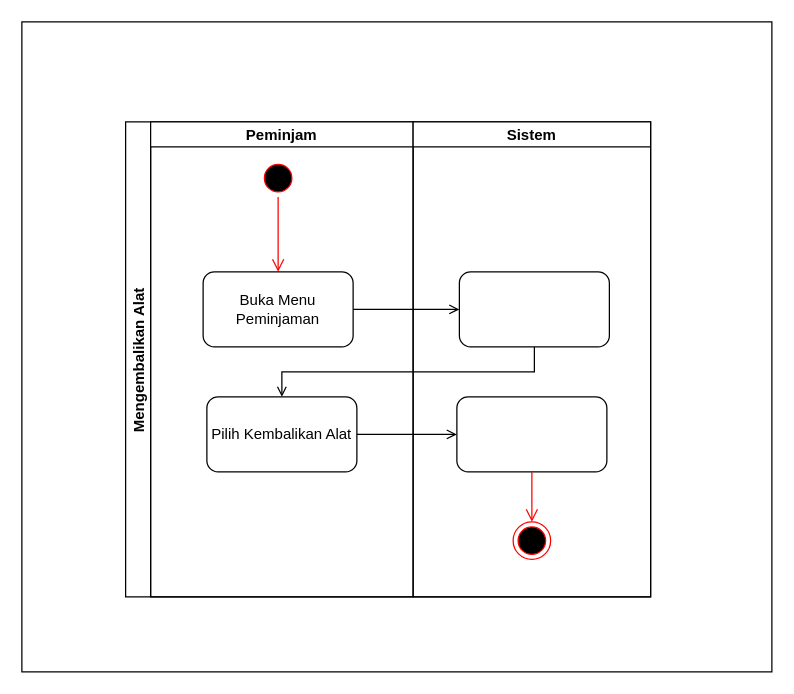
The diagram is 794 pixels wide and 694 high, and some of its shapes have lost their labels. The shapes that lost their labels are listed below. From the top down, each one's centre as x and y in pixels, then its label:
[533,309]: Menampilkan Menu Peminjaman
[531,434]: Mengubah Status "Dipinjam" > "Diproses"
